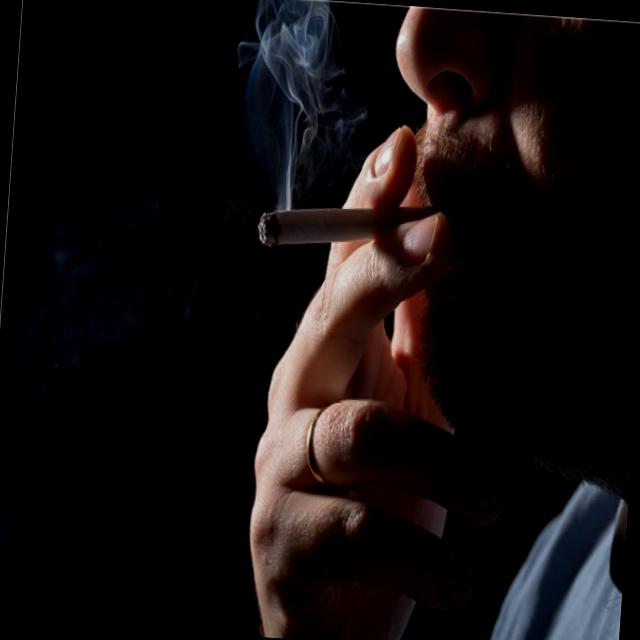smoke: (254, 196, 402, 256)
